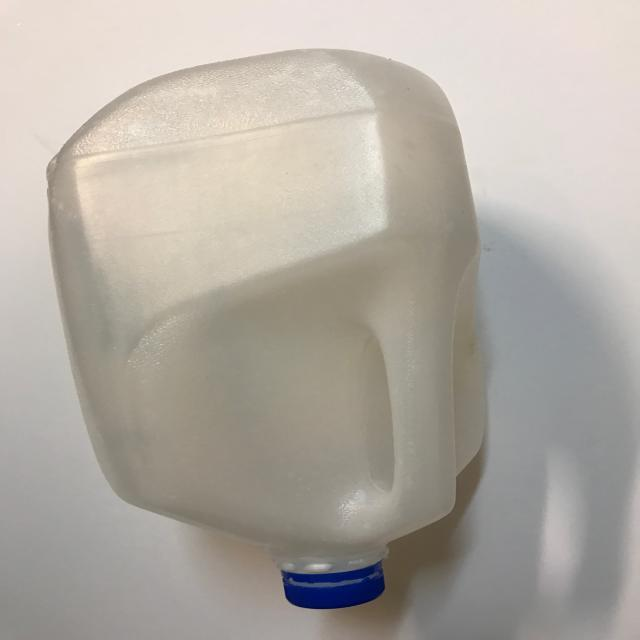plastic: (40, 42, 497, 611)
